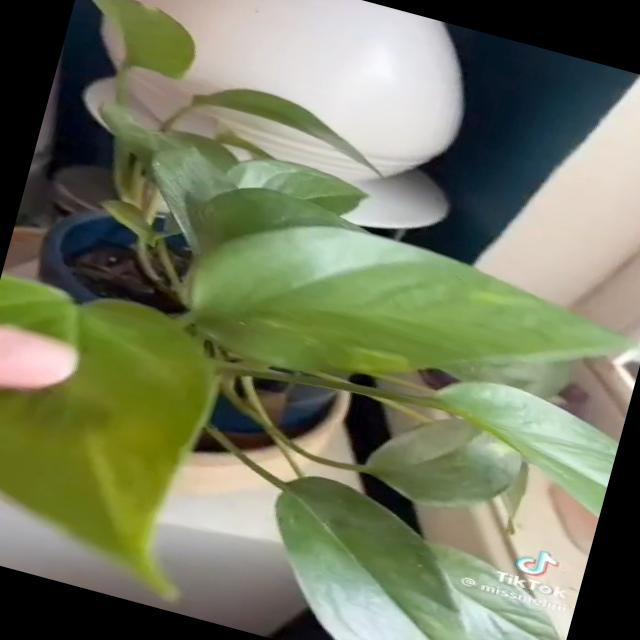roslina_zdrowa: (0, 0, 630, 640)
